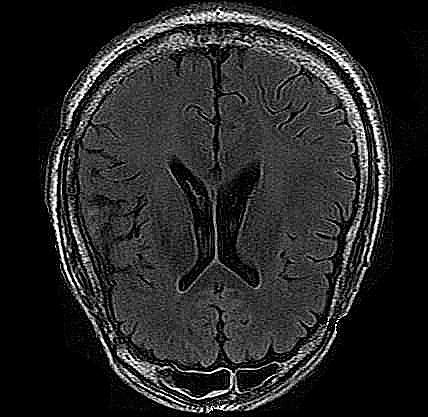Normal_Brain: (15, 1, 402, 405)
